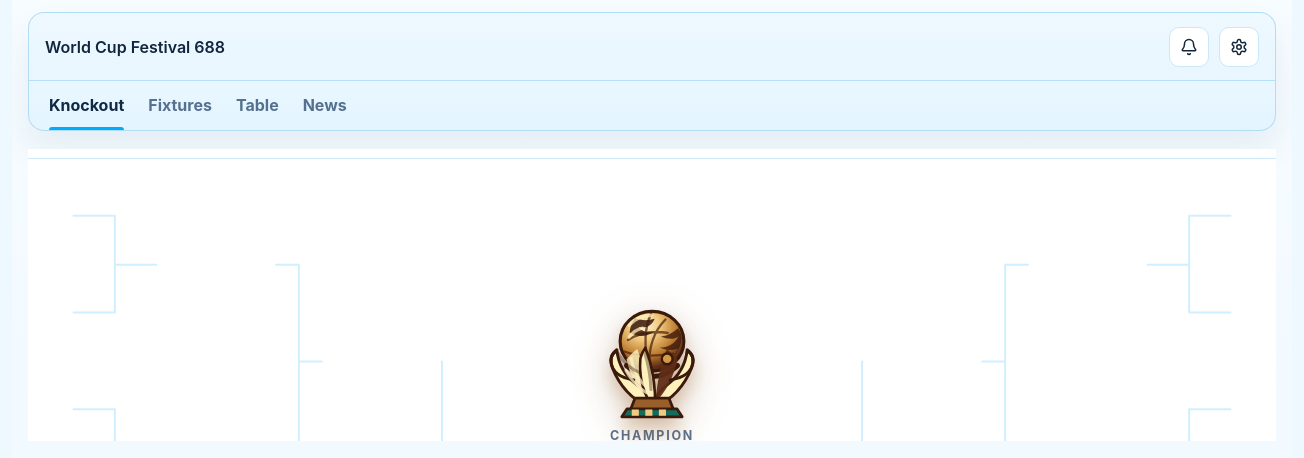
Test case: uses local loading and error states when a tab has no cached data
This screenshot has width=1304, height=458.
Click the tab "News".
click(325, 106)  # box x1=303 y1=81 x2=347 y2=130
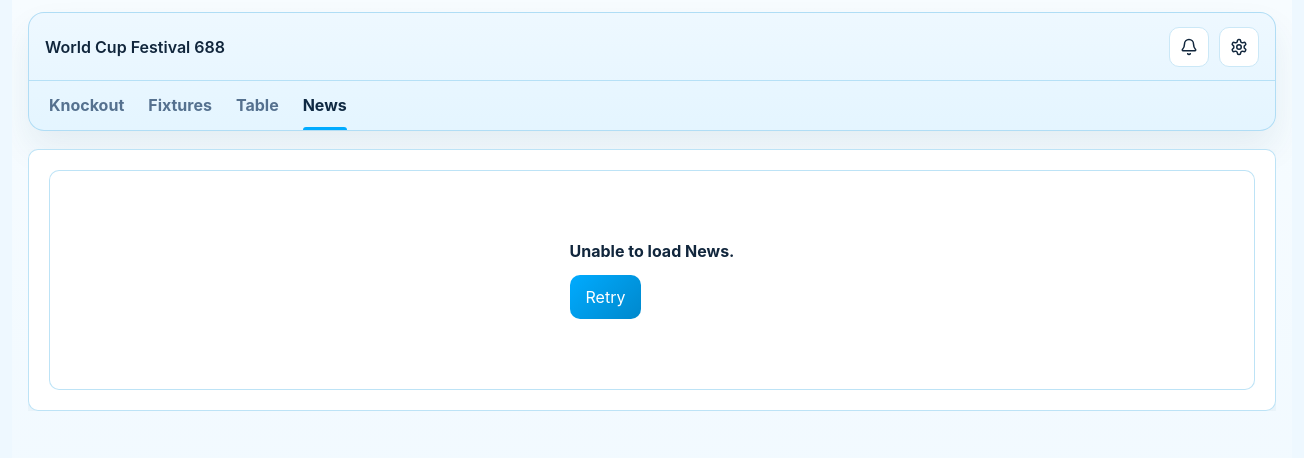
Expected: the text "World Cup Festival 688" is shown, x1=45 y1=37 x2=225 y2=57
Expected: the message named "Loading News" is shown, x1=49 y1=170 x2=1255 y2=390
Expected: the text "Unable to load News." is shown, x1=570 y1=241 x2=734 y2=261
